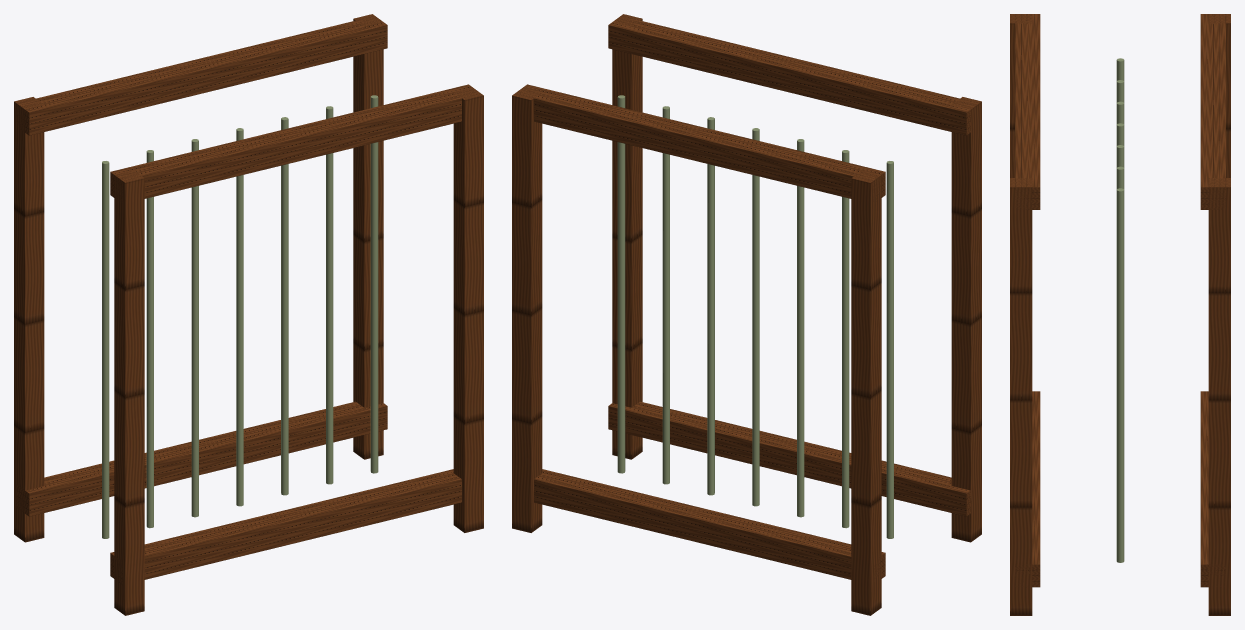
The model's file is rural-scavenging-settlements-outdoor-wash-rack-02bb1f13__26615.glb.
3 views of the same model, side by side, from view 1: azimuth 30°, elevation 25°; view 2: azimuth 150°, elevation 25°; view 3: azimuth 270°, elevation 25° (orthographic).
Visible parts, largest first — view 1: outdoor-wash-rack; view 2: outdoor-wash-rack; view 3: outdoor-wash-rack.
Part boxes in pixels (x1,y1,x2,y2): outdoor-wash-rack: [14, 14, 483, 615]; outdoor-wash-rack: [512, 14, 981, 615]; outdoor-wash-rack: [1010, 14, 1230, 615].
Bounding box in the file's own units: 1.3 × 1.5 × 0.6999.
Materials: 2 (1 with a texture image).
